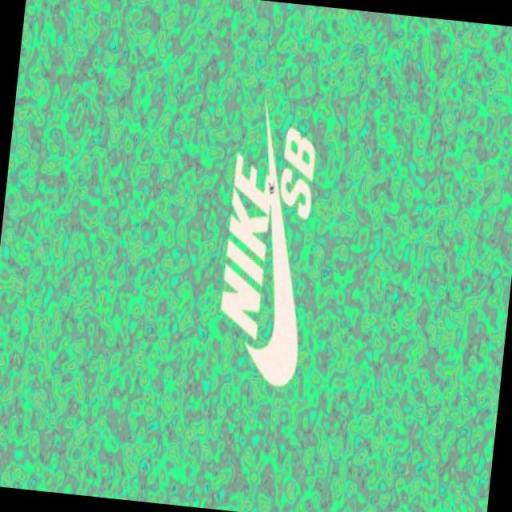Nike: (233, 86, 326, 392), (219, 156, 276, 340)
